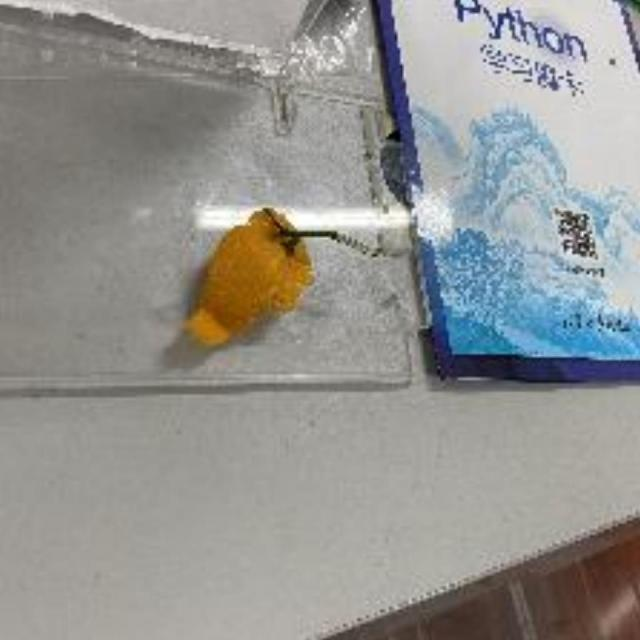orange-peel: (181, 204, 316, 349)
